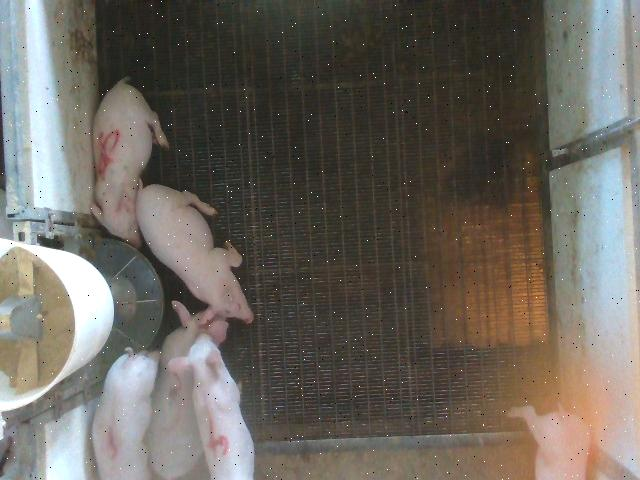pig-1: (92, 349, 160, 479)
pig-3: (148, 301, 228, 479)
pig-4: (169, 335, 254, 479)
pig-5: (91, 78, 169, 247)
